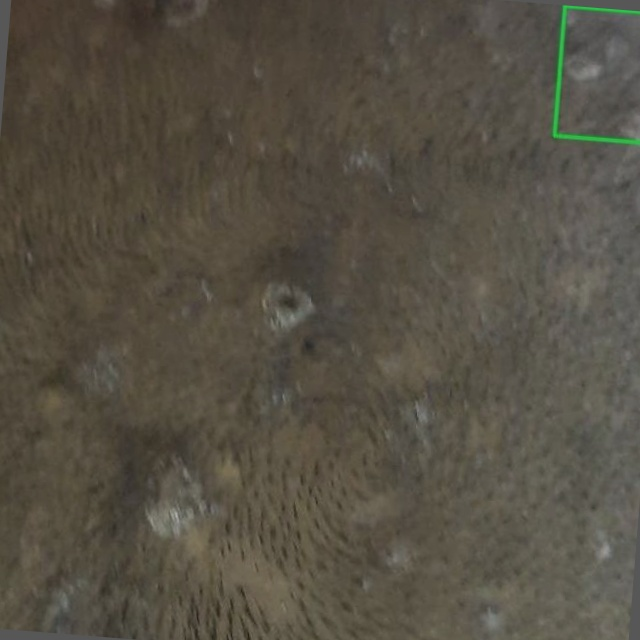Seborrheic Dermatitis: (554, 6, 639, 142)
